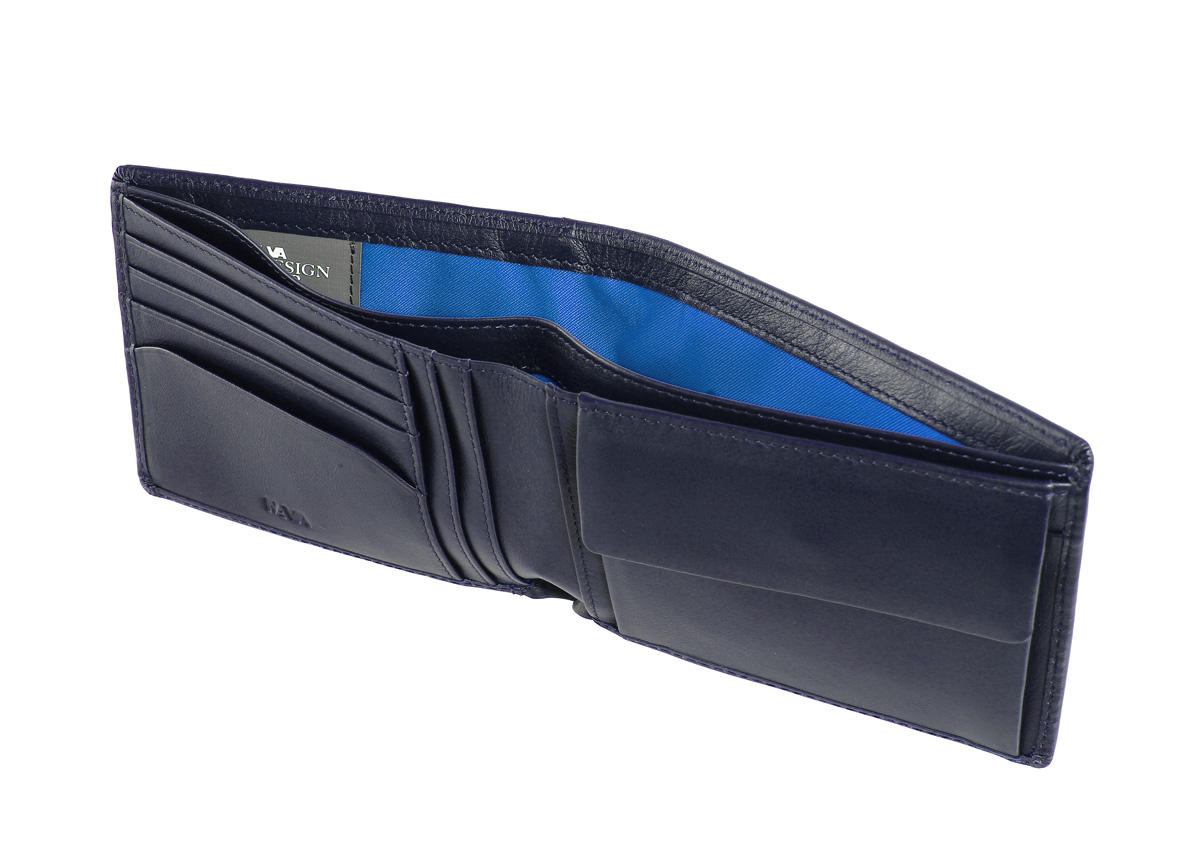monedero: (110, 163, 1094, 768)
